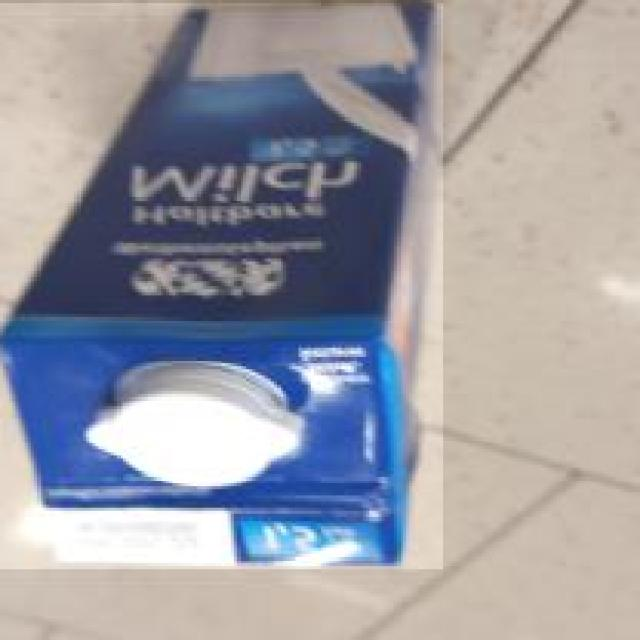meat: (0, 0, 446, 569)
